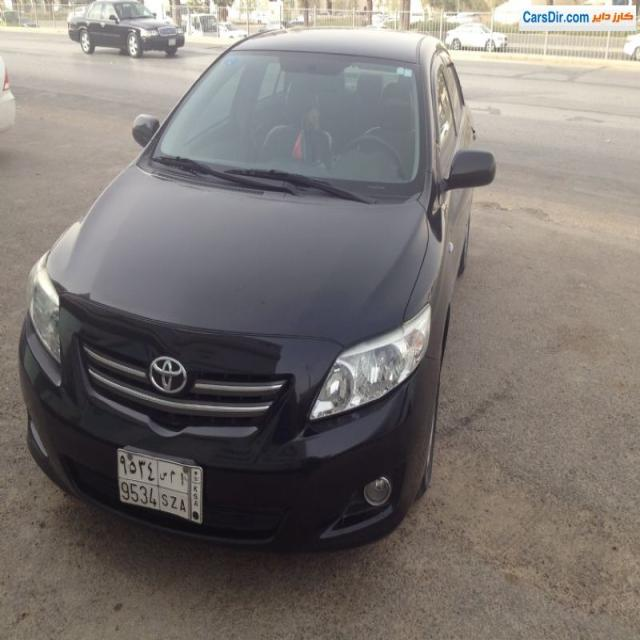license_plate: (114, 444, 205, 528)
